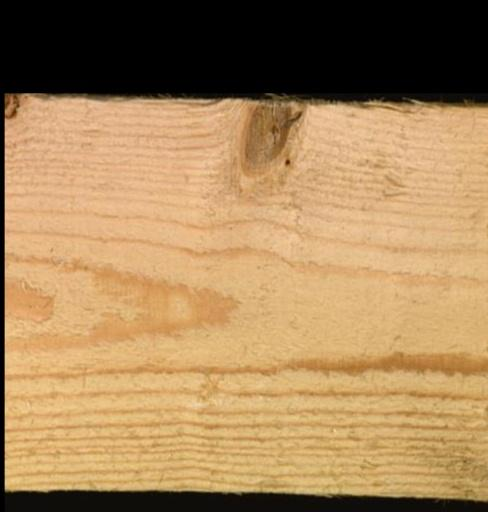edge_knot: (237, 99, 289, 173), (4, 92, 18, 122)
